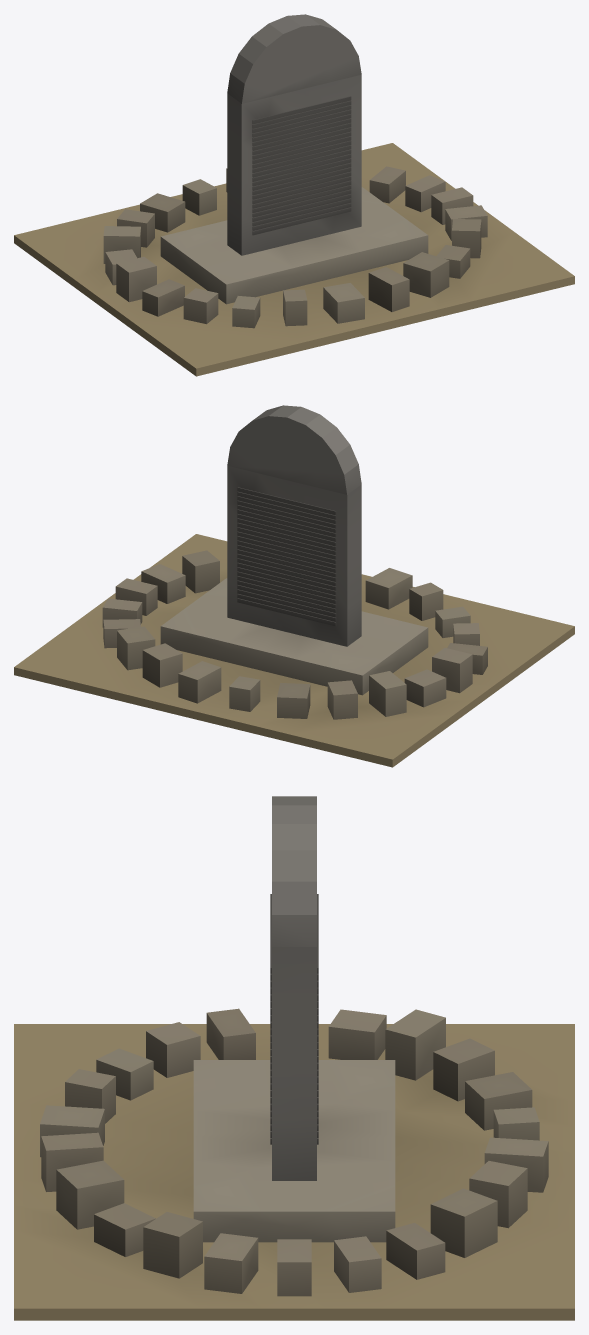
The model's file is ezana-stone.glb.
3 renders of one model, top to bottom at view 1: azimuth 30°, elevation 25°; view 2: azimuth 150°, elevation 25°; view 3: azimuth 270°, elevation 25°, orthographic. The views are drawn at different scales.
Visible parts, largest first — view 1: p1_stone, p0_base; view 2: p1_stone, p0_base; view 3: p0_base, p1_stone.
Part boxes in pixels (bbox=[...]): p1_stone: bbox=[103, 14, 487, 328]; p0_base: bbox=[14, 143, 574, 376]; p1_stone: bbox=[102, 405, 487, 719]; p0_base: bbox=[14, 534, 574, 767]; p0_base: bbox=[14, 1024, 574, 1320]; p1_stone: bbox=[40, 796, 548, 1296].
Bounding box in the file's own units: 6 × 3.67 × 5.
